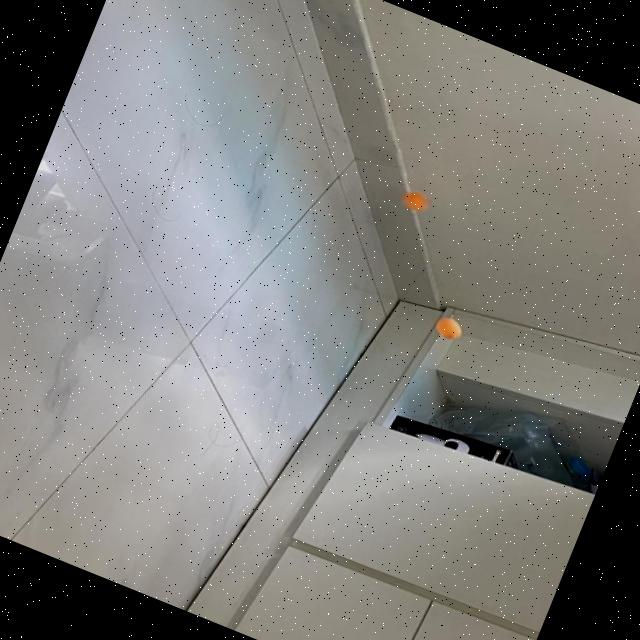ping-pong-ball: (432, 312, 464, 342), (400, 186, 429, 212)
